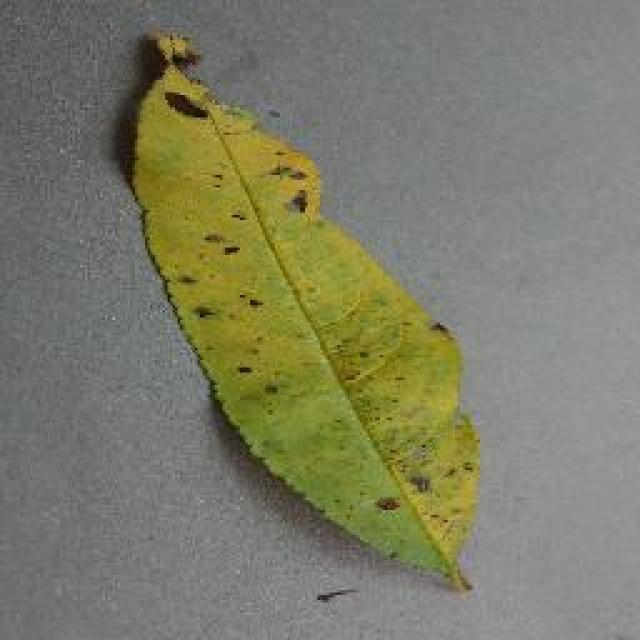Pea_Bacterial_spot: (178, 235, 282, 330), (149, 32, 236, 136), (255, 148, 327, 232)
